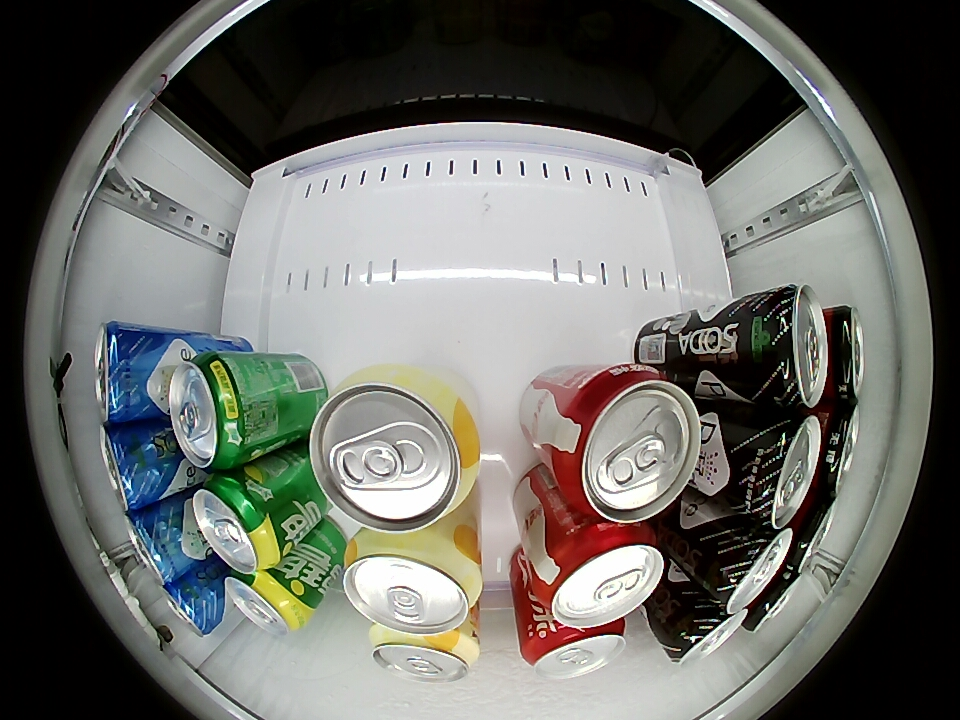kele: (556, 366, 703, 523), (534, 522, 665, 629), (521, 620, 628, 680)
lingdukele: (812, 402, 860, 493), (784, 492, 838, 572), (821, 305, 864, 401), (746, 570, 802, 633)
mangguoxiaolao: (309, 368, 479, 531), (342, 531, 480, 636), (370, 628, 481, 685)
qingdaowangzi-1: (730, 413, 821, 527), (748, 284, 828, 410), (704, 518, 793, 614), (665, 598, 748, 666)
qingdaowangzi-2: (95, 324, 159, 424), (100, 423, 169, 511), (123, 506, 191, 585), (159, 572, 225, 636)
xuebi2: (168, 347, 257, 470), (190, 472, 284, 573), (225, 570, 307, 636)
